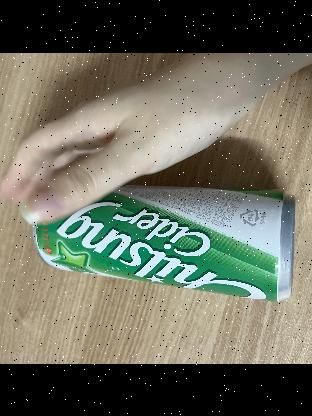Can: (33, 182, 297, 307)
